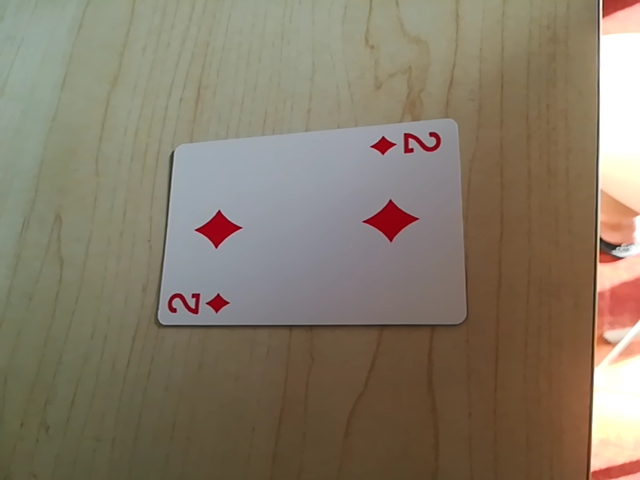fk 2: (366, 126, 449, 161), (161, 288, 234, 323)
